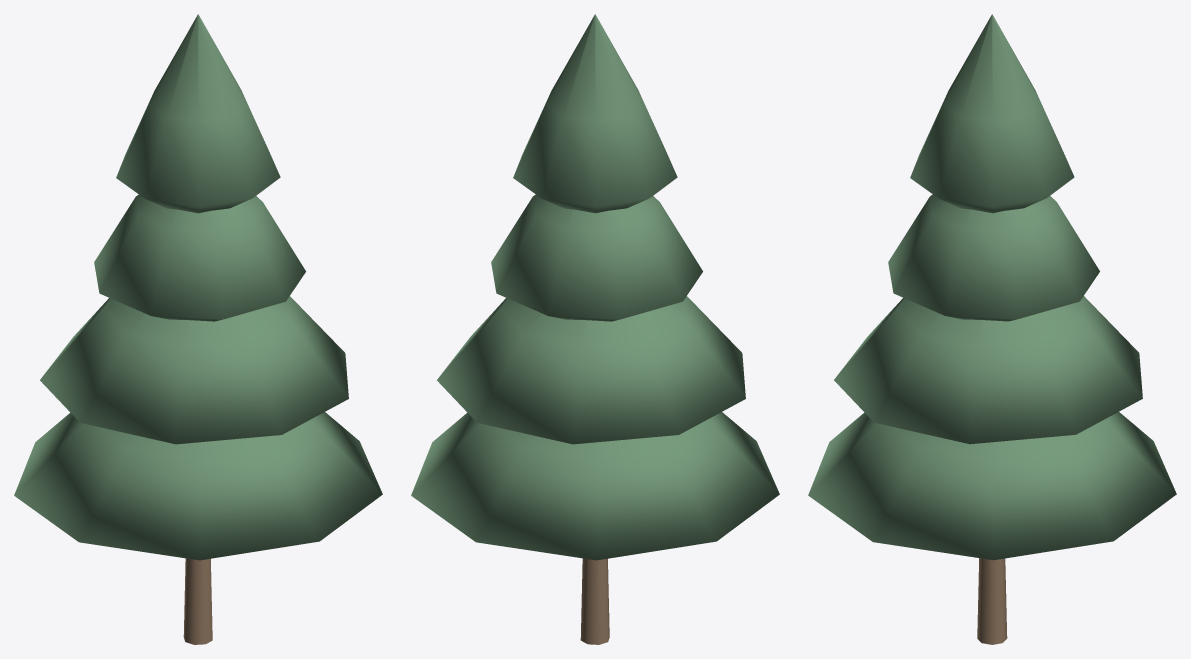
The model's file is Pine2.glb.
3 views of the same model, side by side, from view 1: azimuth 30°, elevation 25°; view 2: azimuth 150°, elevation 25°; view 3: azimuth 270°, elevation 25° (orthographic).
Visible parts, largest first — view 1: Pine2; view 2: Pine2; view 3: Pine2.
Boxes of the visible parts, x1,y1,x2,y2 form: Pine2: (14,14,382,644); Pine2: (411,14,779,644); Pine2: (808,14,1176,644).
Bounding box in the file's own units: 4.86 × 9.2 × 4.92.
